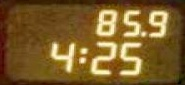-: (139, 30, 145, 36)
2: (87, 40, 115, 74)
4: (47, 40, 73, 72)
5: (117, 40, 140, 75), (120, 7, 140, 36)
8: (94, 7, 115, 36)
9: (145, 9, 167, 36)
X: (77, 46, 87, 62)
